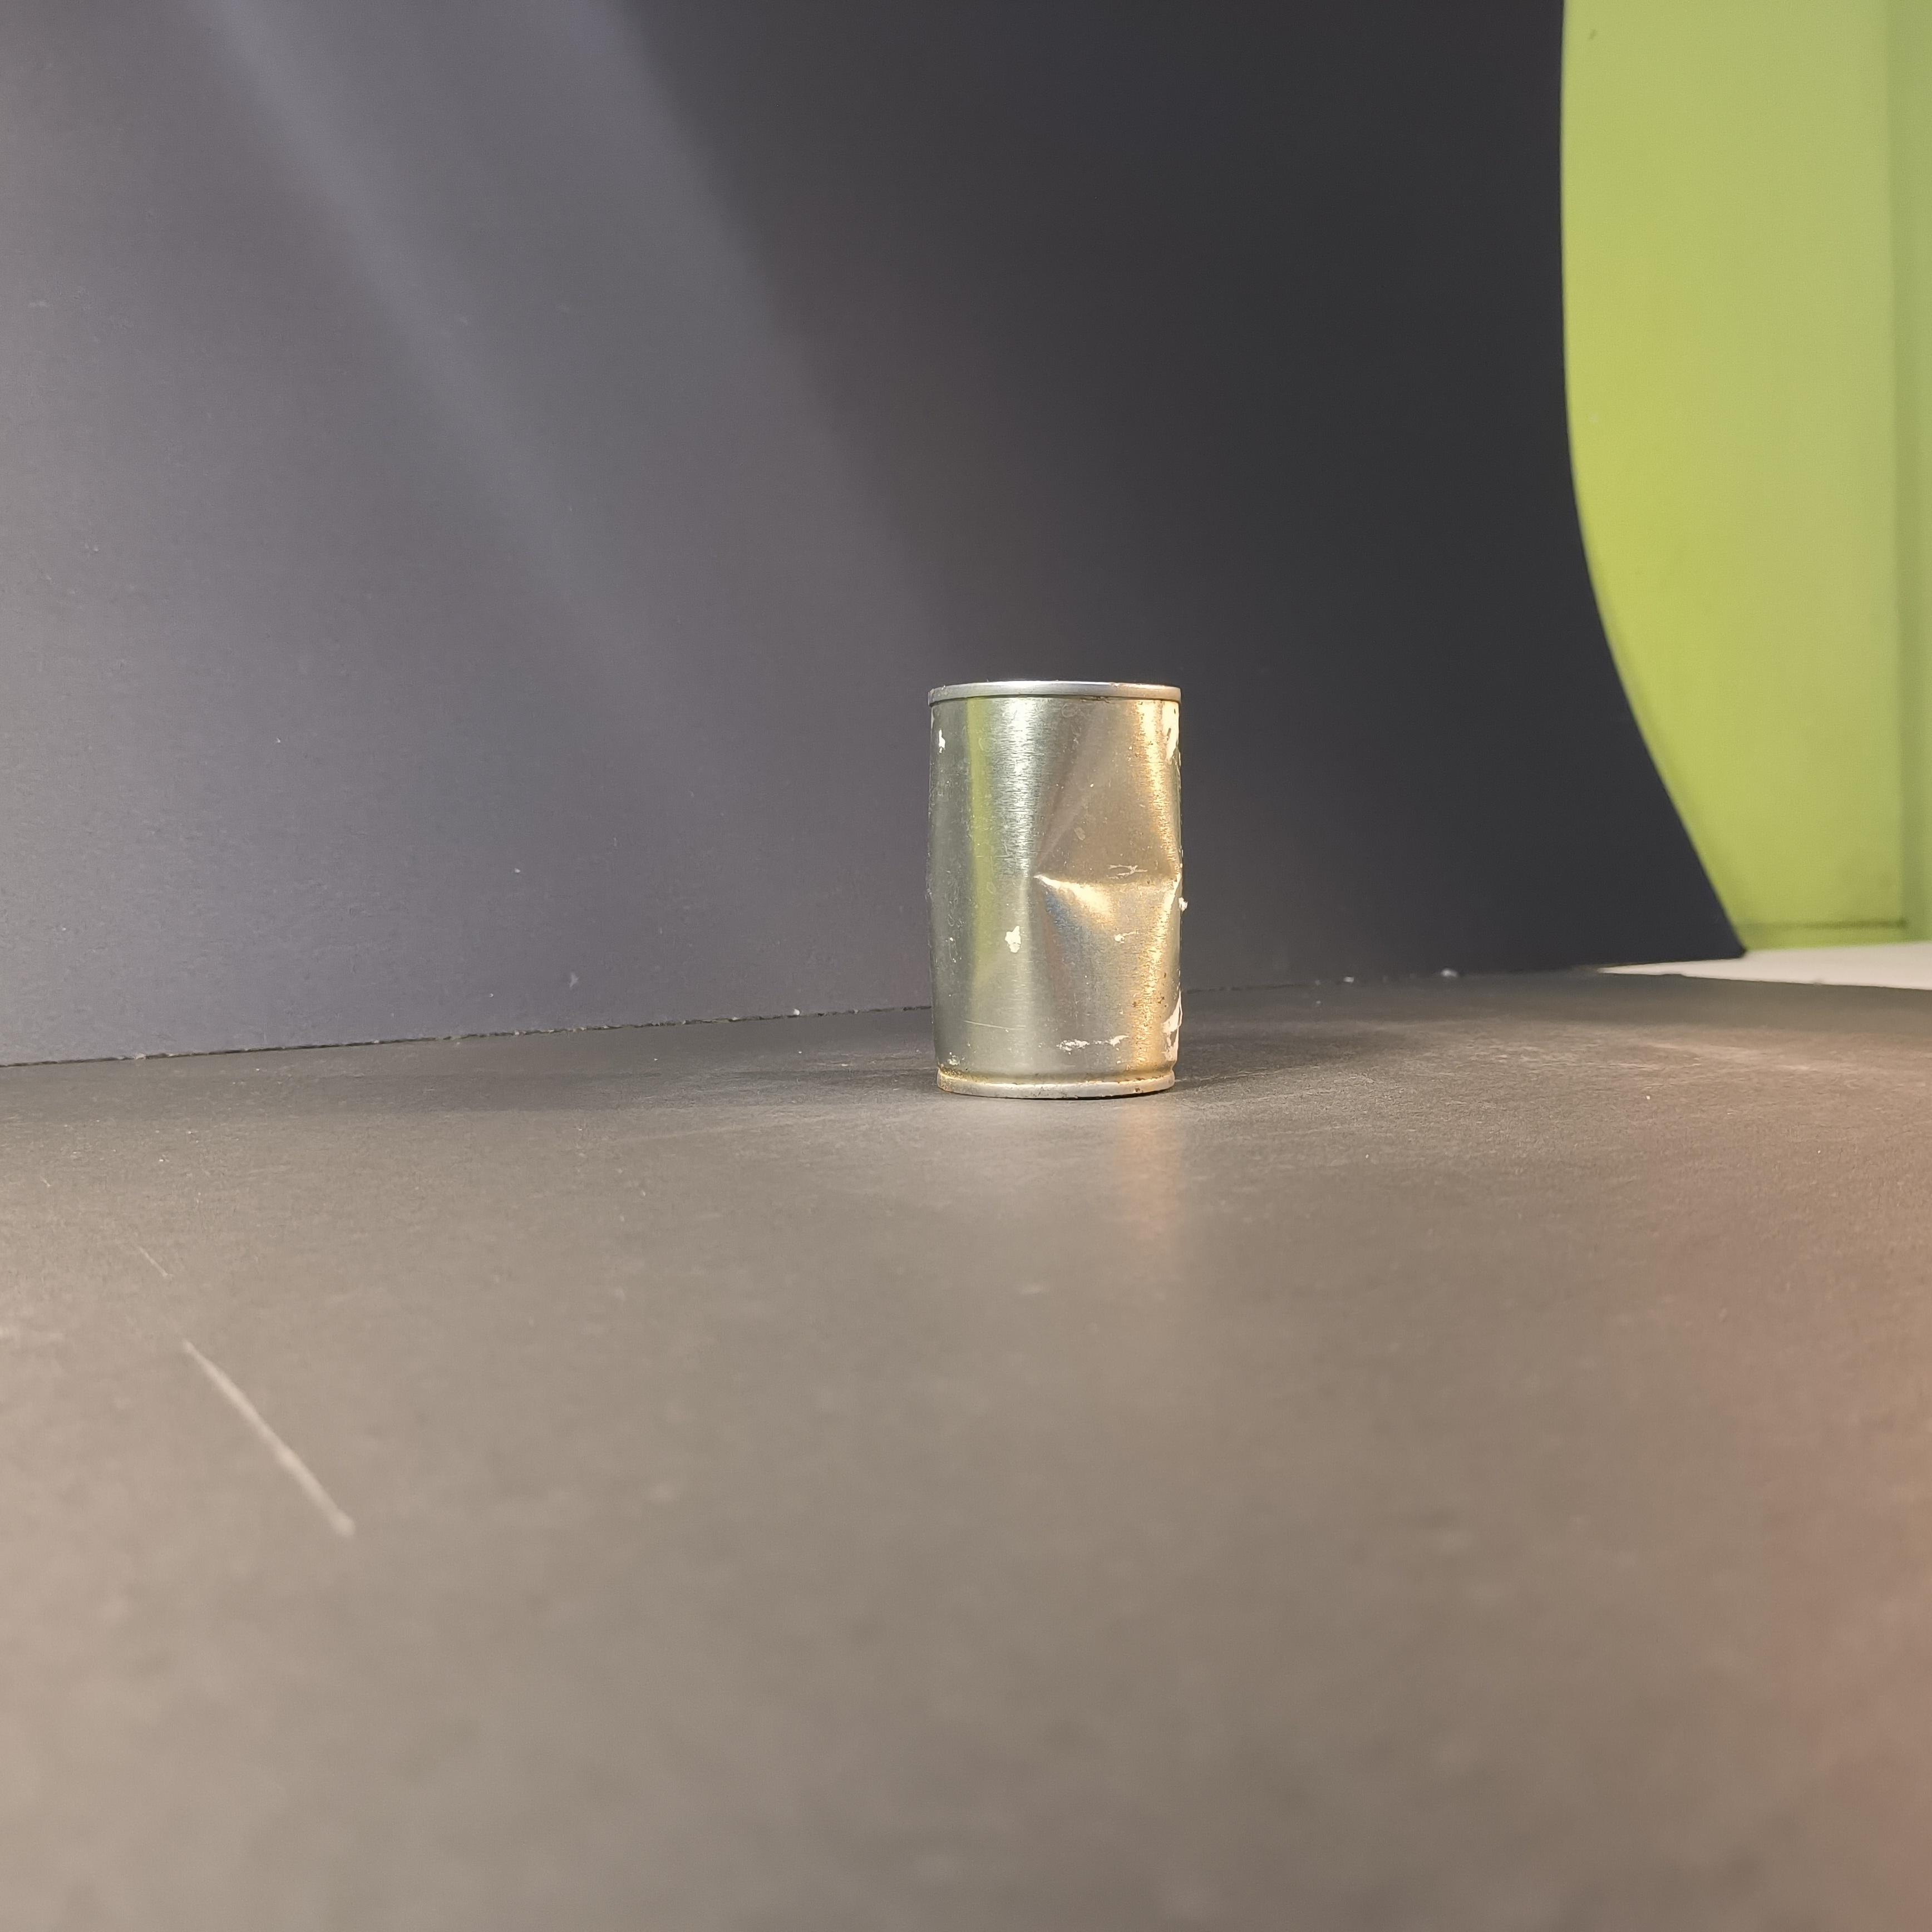Dented: (902, 655, 1210, 1123)
